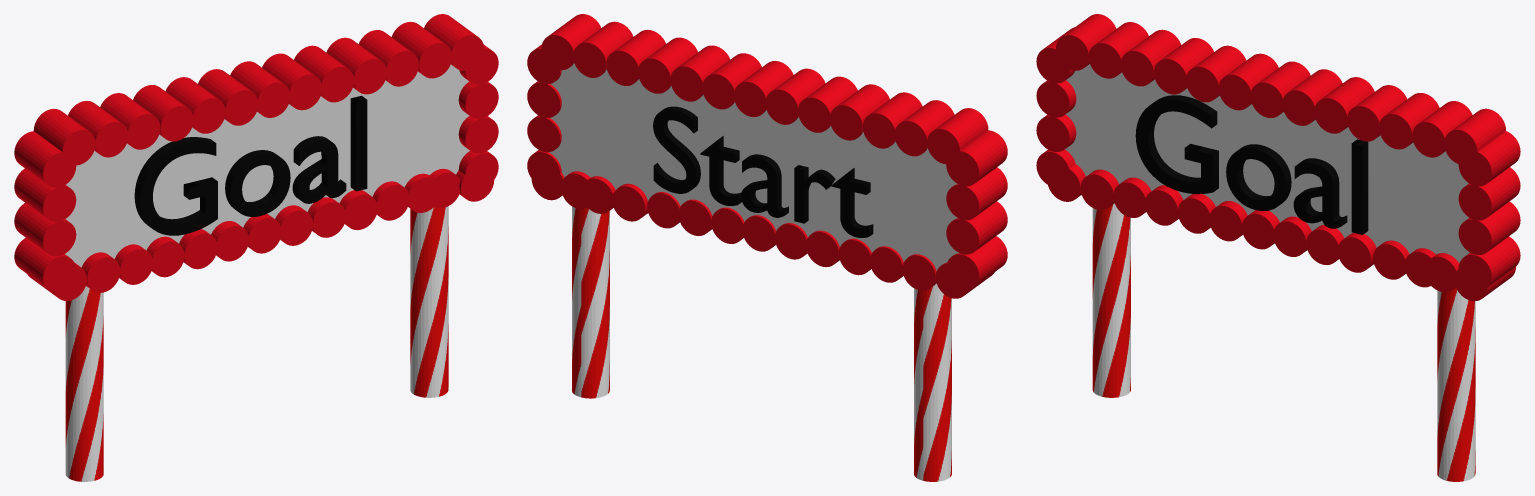
Rendered from goal.fbx.
3 views of the same model, side by side, from view 1: azimuth 30°, elevation 25°; view 2: azimuth 150°, elevation 25°; view 3: azimuth 330°, elevation 25° (orthographic).
Parts seen in each view (by area): view 1: 円柱.006; view 2: 円柱.006; view 3: 円柱.006.
Part boxes in pixels (box(x1,y1,x2,y2)): 円柱.006: box(14, 14, 498, 481); 円柱.006: box(527, 14, 1007, 481); 円柱.006: box(1036, 14, 1520, 481).
Bounding box in the file's own units: 21.94 × 16.63 × 2.61.
